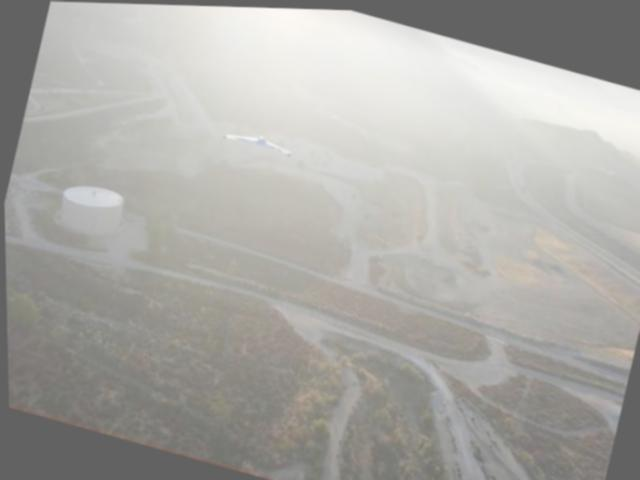iha: (220, 118, 294, 160)
